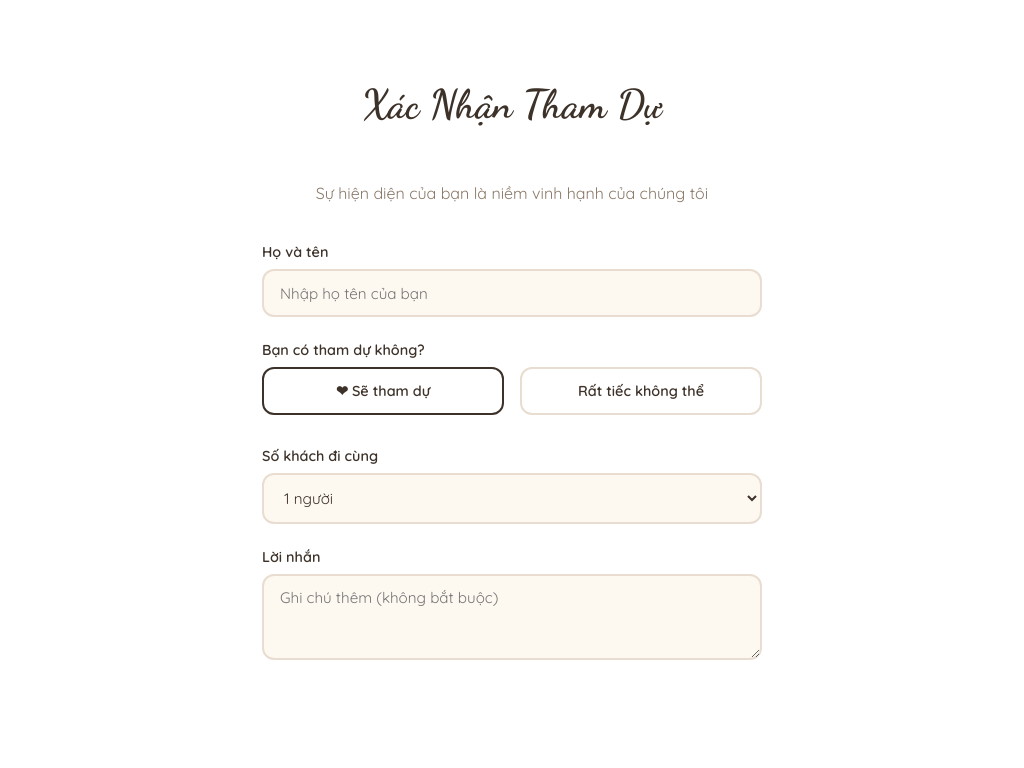
Test: RSVPForm › ẩn dropdown "Số khách đi cùng" khi chọn không tham dự
Step 1. Click the radio button showing "no" → [641, 391], box left=520, top=367, right=762, bottom=415
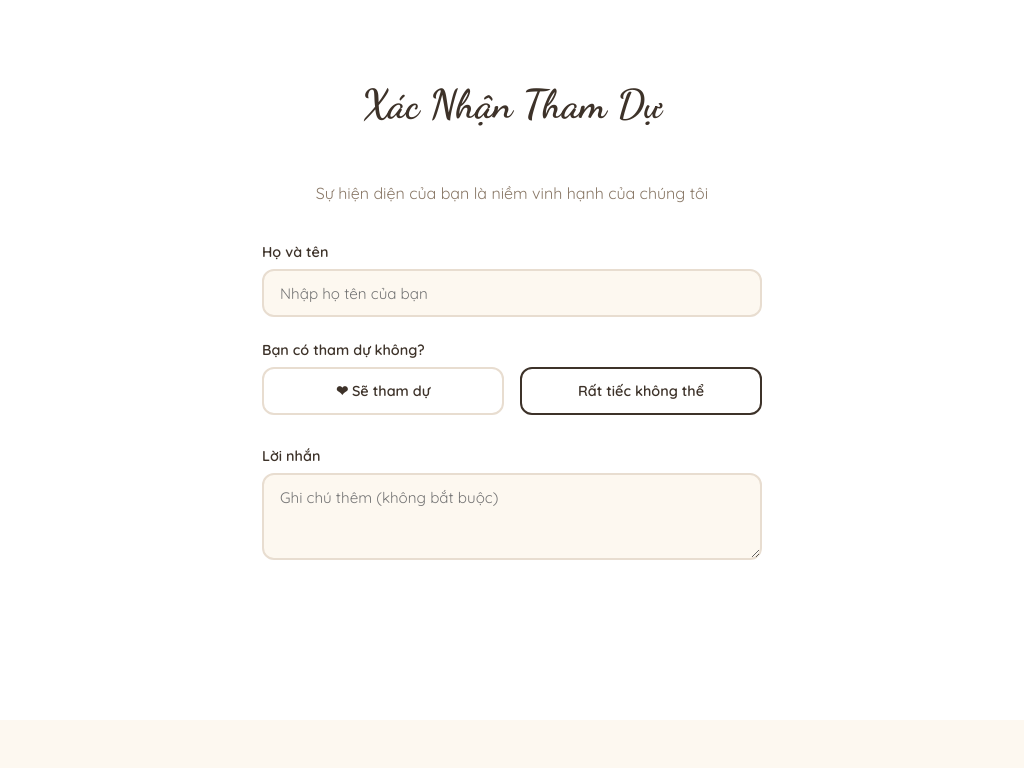
Expected: the label labelled "Số khách đi cùng" is gone
